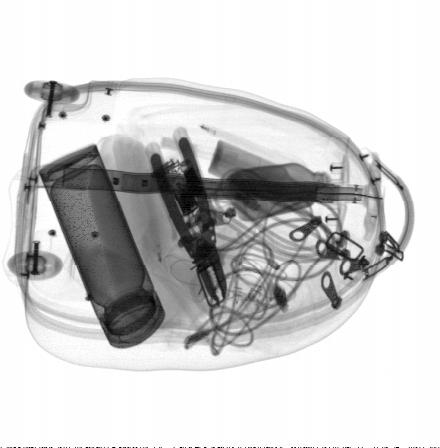Pliers: (150, 133, 230, 306)
